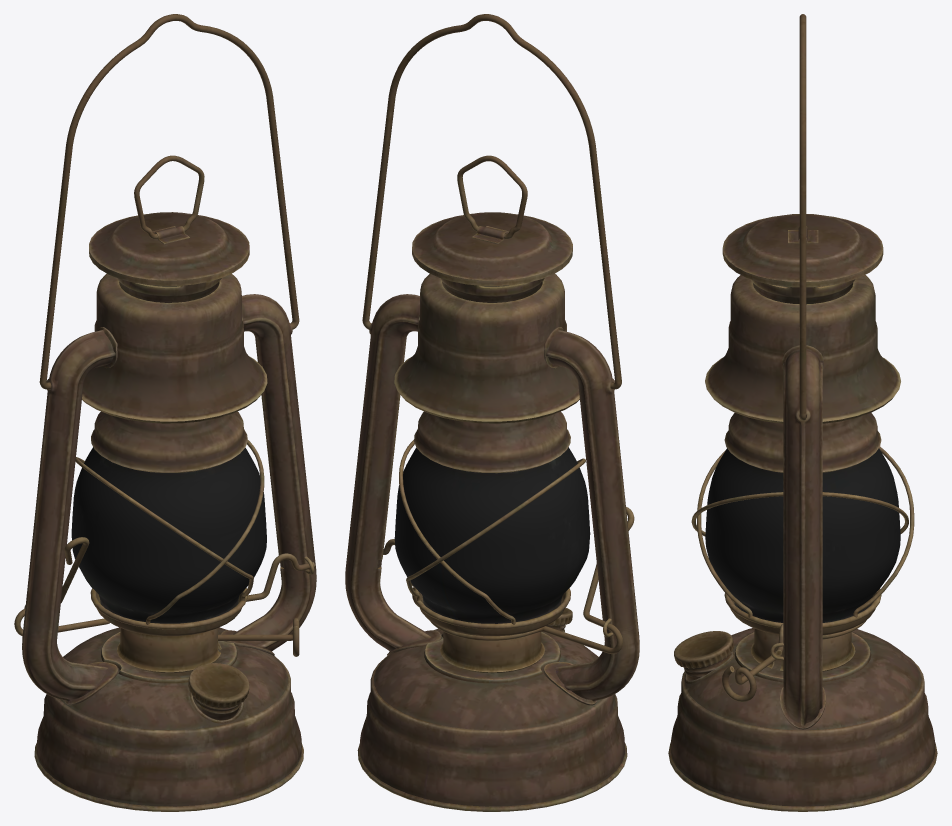
File: Lantern_01.glb
The picture shows the model from 3 angles, left to right: view 1: azimuth 30°, elevation 25°; view 2: azimuth 150°, elevation 25°; view 3: azimuth 270°, elevation 25°; orthographic projection.
Parts seen in each view (by area): view 1: Lantern_01, Lantern_01_glass; view 2: Lantern_01, Lantern_01_glass; view 3: Lantern_01, Lantern_01_glass.
Part boxes in pixels (x1=…): Lantern_01: x1=14, y1=14, x2=316, y2=811; Lantern_01_glass: x1=71, y1=447, x2=266, y2=623; Lantern_01: x1=345, y1=14, x2=639, y2=811; Lantern_01_glass: x1=394, y1=447, x2=590, y2=623; Lantern_01: x1=668, y1=14, x2=937, y2=811; Lantern_01_glass: x1=705, y1=448, x2=900, y2=622.
Size of the model in its own units: 0.1221 by 0.2942 by 0.0972.
Materials: 2 (2 with a texture image).
